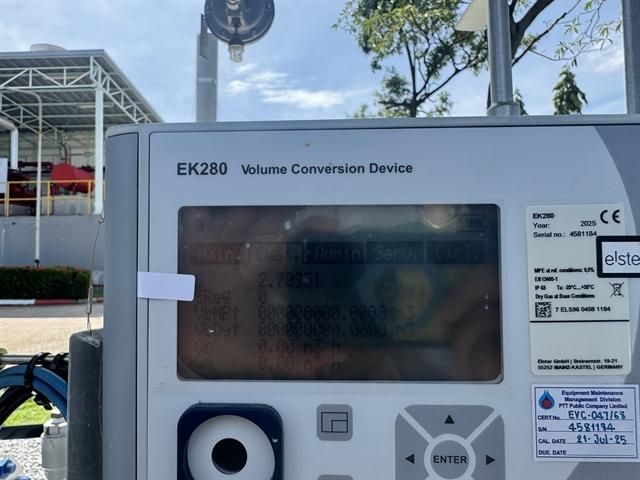digital_screen: (178, 204, 503, 382)
